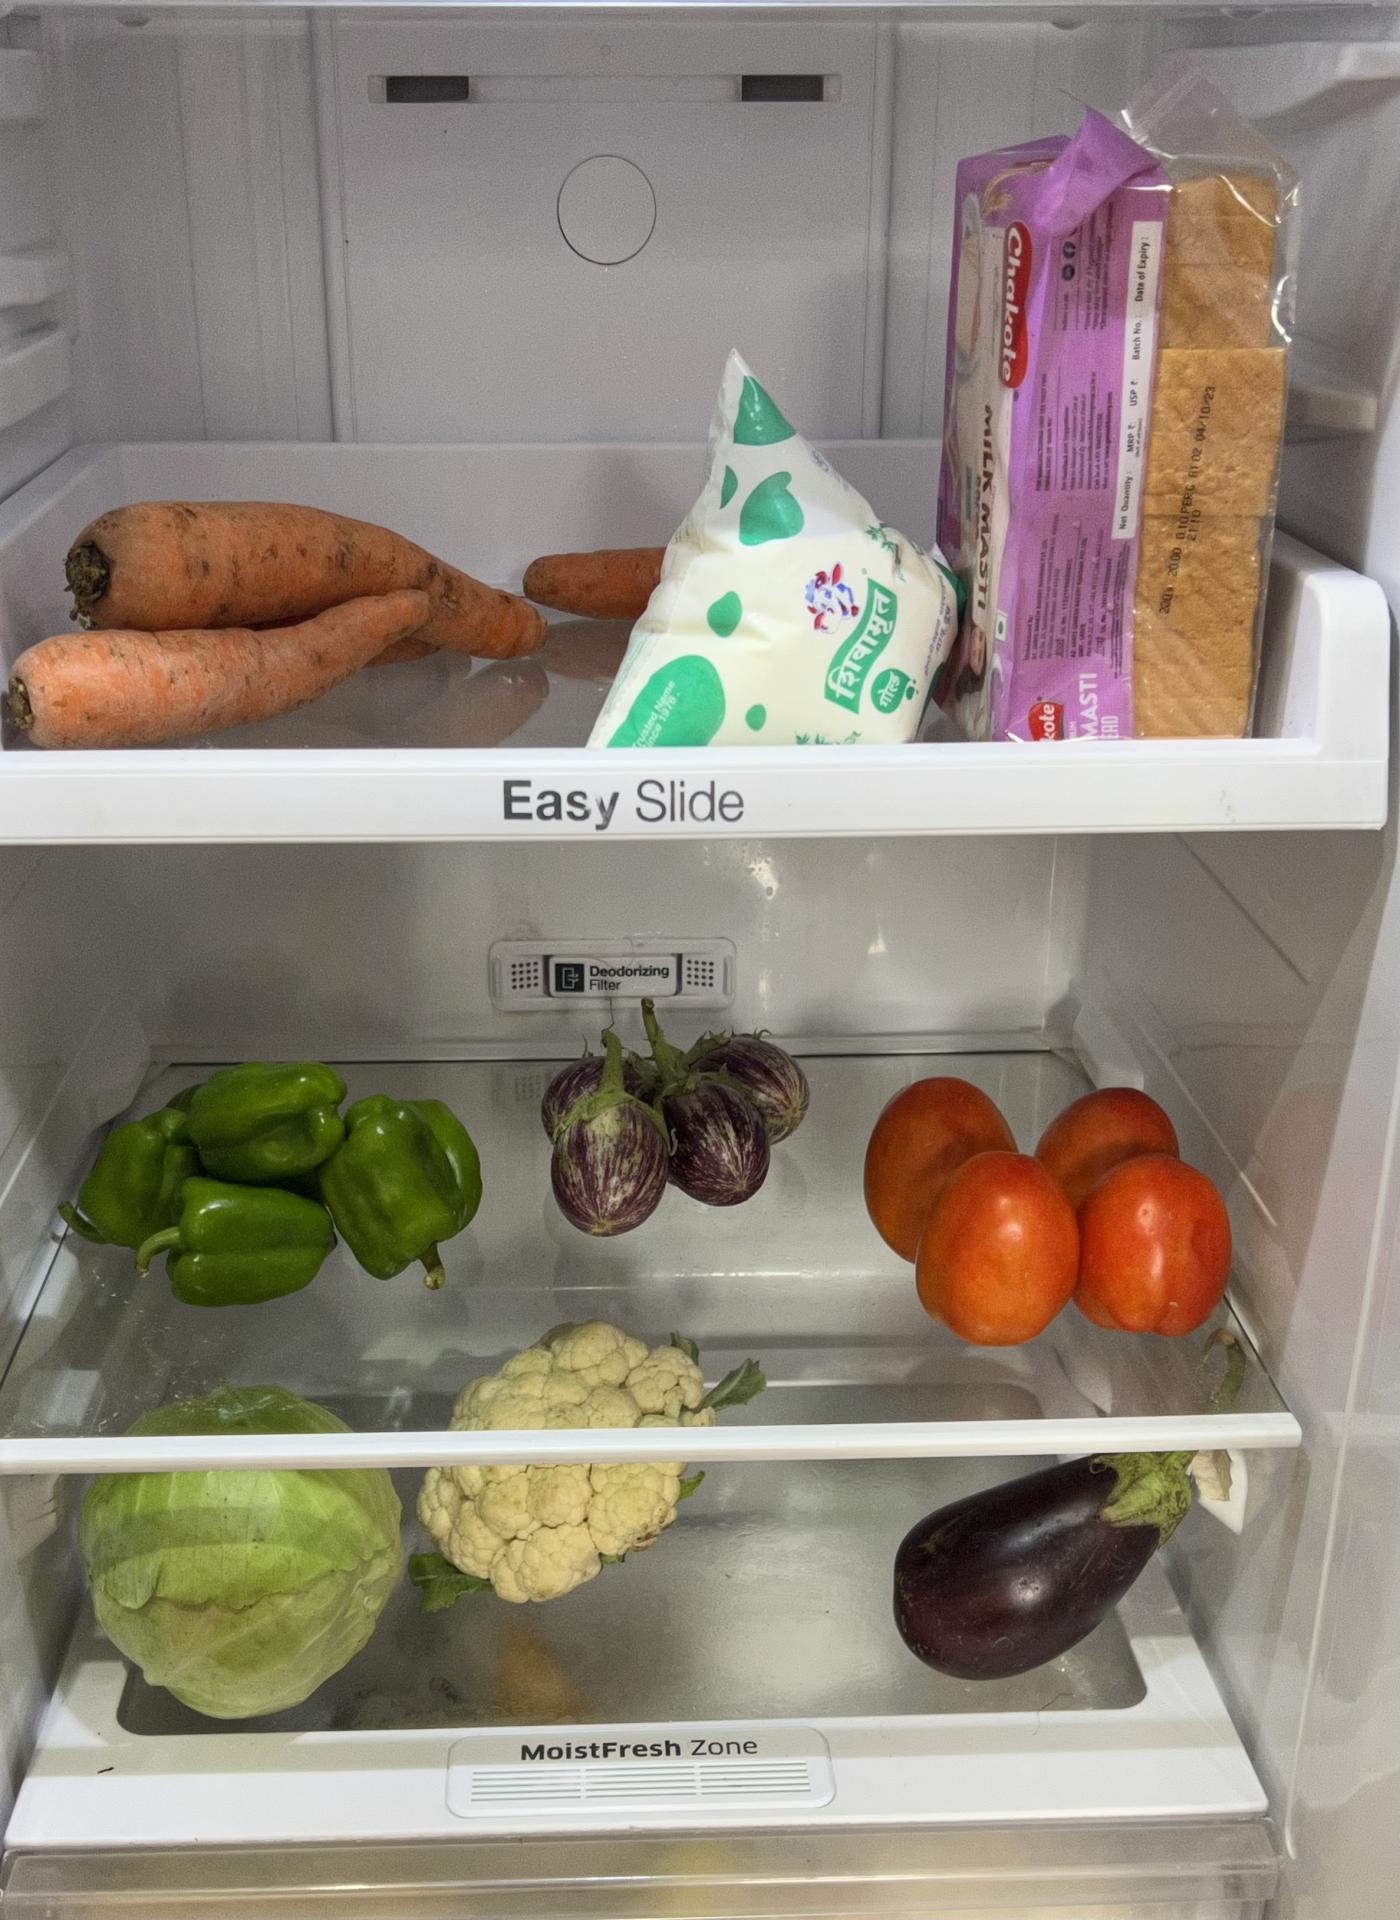bread: (962, 134, 1270, 756)
cabbage: (72, 1377, 422, 1711)
capsicum: (83, 1032, 479, 1313)
carrots: (1, 429, 568, 741)
cauliflower: (449, 1340, 728, 1591)
milk: (573, 329, 950, 756)
tomato: (868, 1069, 1227, 1362)
